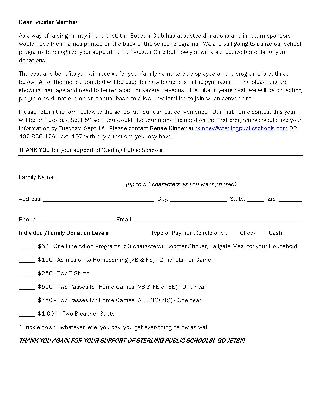textline: (54, 169, 303, 182), (134, 213, 304, 224), (41, 191, 157, 203), (39, 213, 116, 224), (169, 192, 229, 204), (277, 190, 304, 203), (246, 191, 267, 204), (17, 306, 37, 319), (16, 293, 37, 305), (17, 280, 37, 291), (17, 254, 38, 264), (17, 241, 37, 251), (17, 268, 37, 278)
